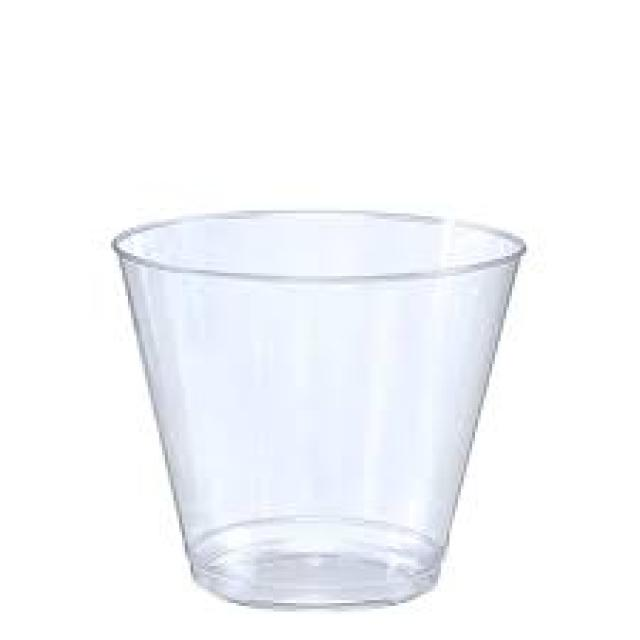plastic: (114, 211, 522, 606)
